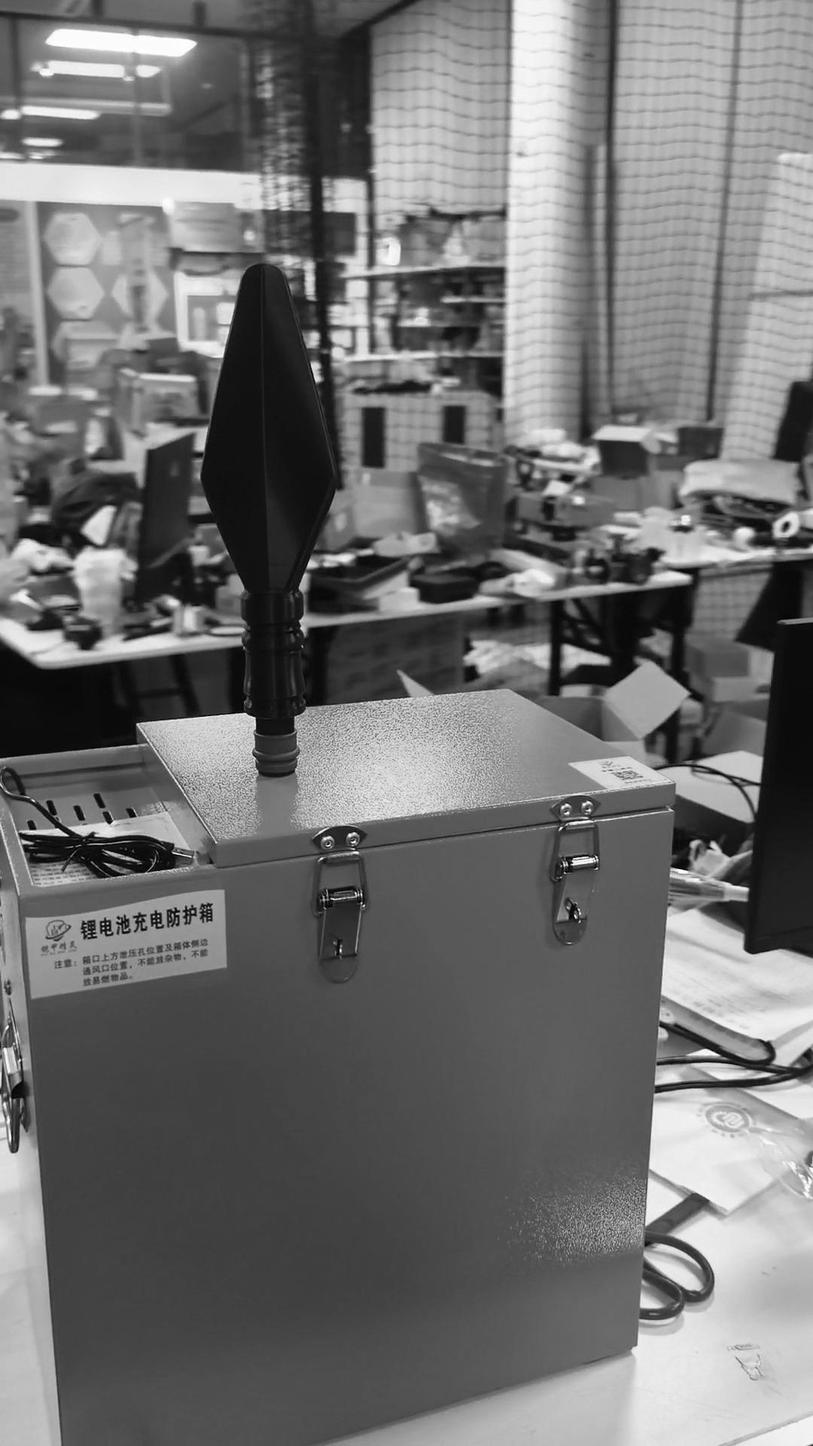base: (251, 729, 301, 777)
